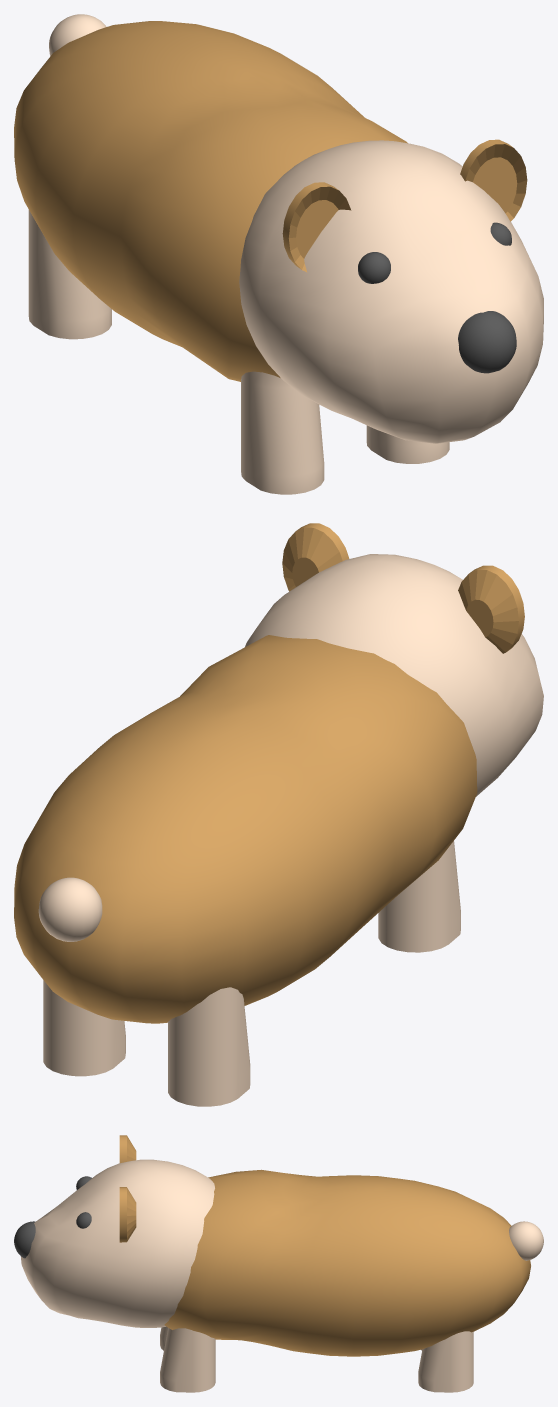
The model's file is GiniPig.fbx.
3 views of the same model, one above another, from view 1: azimuth 30°, elevation 25°; view 2: azimuth 150°, elevation 25°; view 3: azimuth 270°, elevation 25° (orthographic). The views are drawn at different scales.
Visible parts, largest first — view 1: pSphere10, pSphere9, pCylinder10, pCylinder12, pCylinder14, pCylinder8, pSphere11, pCylinder11, pSphere14, pSphere15; view 2: pSphere10, pSphere9, pCylinder12, pCylinder10, pCylinder13, pCylinder8, pSphere14, pCylinder14; view 3: pSphere10, pSphere9, pCylinder11, pCylinder13, pSphere14, pCylinder14, pSphere11, pCylinder8.
Boxes of the visible parts, left/top/right/bottom form: pSphere10: left=14, top=21, right=407, bottom=381; pSphere9: left=239, top=140, right=543, bottom=443; pCylinder10: left=241, top=371, right=324, bottom=494; pCylinder12: left=28, top=209, right=111, bottom=339; pCylinder14: left=460, top=139, right=527, bottom=221; pCylinder8: left=282, top=182, right=351, bottom=272; pSphere11: left=458, top=311, right=516, bottom=373; pCylinder11: left=366, top=425, right=449, bottom=463; pSphere14: left=49, top=14, right=106, bottom=55; pSphere15: left=358, top=252, right=390, bottom=283; pSphere10: left=14, top=635, right=477, bottom=1023; pSphere9: left=245, top=554, right=543, bottom=796; pCylinder12: left=168, top=987, right=250, bottom=1106; pCylinder10: left=378, top=841, right=460, bottom=952; pCylinder13: left=43, top=980, right=125, bottom=1076; pCylinder8: left=458, top=565, right=524, bottom=653; pSphere14: left=38, top=877, right=102, bottom=941; pCylinder14: left=282, top=523, right=349, bottom=591; pSphere10: left=164, top=1169, right=530, bottom=1356; pSphere9: left=20, top=1159, right=214, bottom=1327; pCylinder11: left=160, top=1327, right=215, bottom=1392; pCylinder13: left=418, top=1331, right=473, bottom=1392; pSphere14: left=509, top=1221, right=543, bottom=1260; pCylinder14: left=119, top=1187, right=136, bottom=1242; pSphere11: left=14, top=1221, right=35, bottom=1258; pCylinder8: left=119, top=1135, right=136, bottom=1163.
Bounding box in the file's own units: 1.11 × 1.23 × 2.9.
